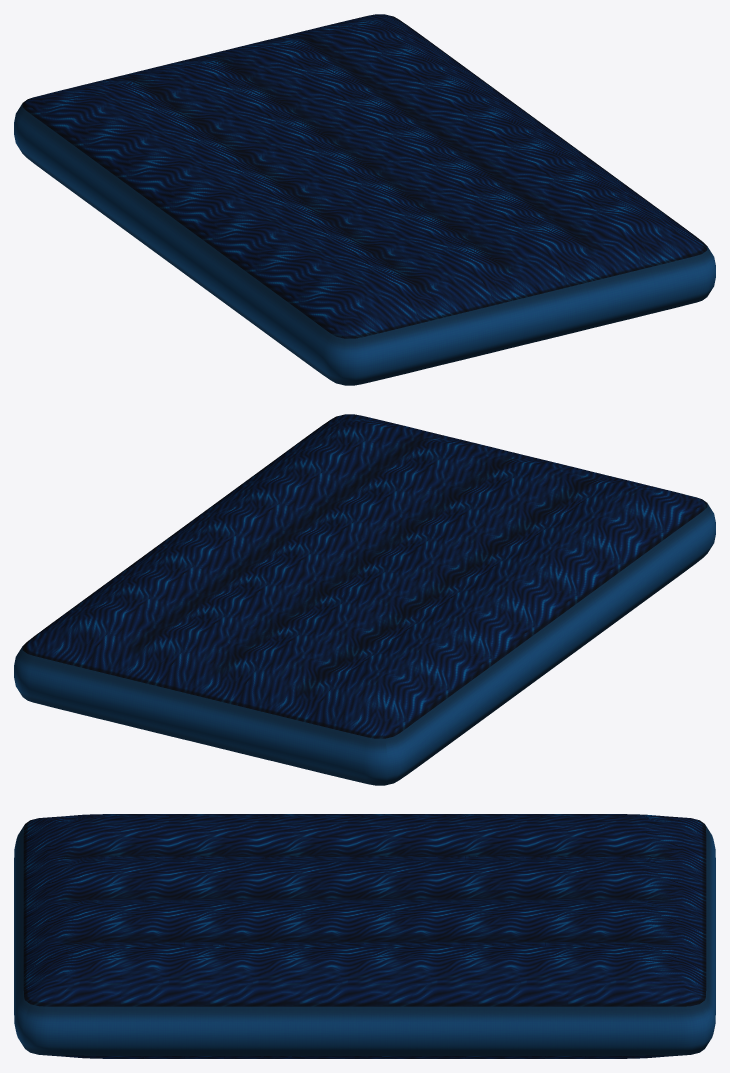
File: Mattress.FBX
3 renders of one model, top to bottom at view 1: azimuth 30°, elevation 25°; view 2: azimuth 150°, elevation 25°; view 3: azimuth 270°, elevation 25°, orthographic. The views are drawn at different scales.
Visible parts, largest first — view 1: ChamferBox031; view 2: ChamferBox031; view 3: ChamferBox031.
Boxes of the visible parts, left/top/right/bottom form: ChamferBox031: left=14, top=14, right=715, bottom=385; ChamferBox031: left=14, top=414, right=715, bottom=785; ChamferBox031: left=14, top=814, right=715, bottom=1058.
Size of the model in its own units: 354 by 79.4 by 532.
